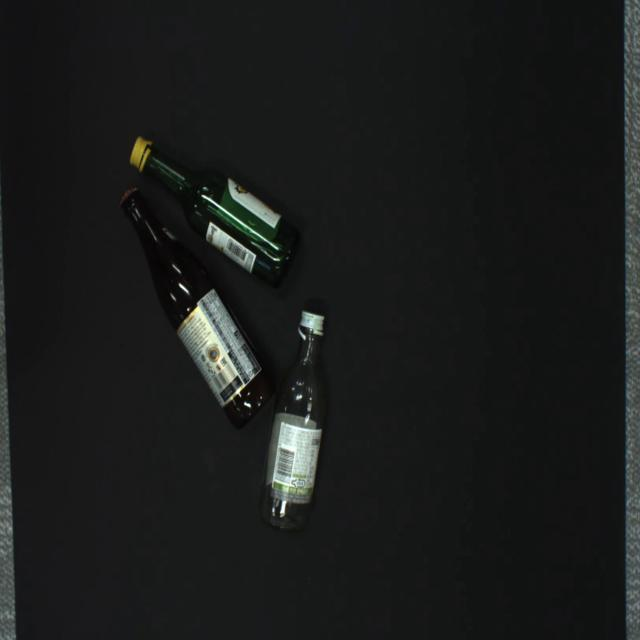beer-bottle: (119, 187, 275, 427)
soju-bottle: (129, 136, 301, 288), (257, 310, 327, 533)
